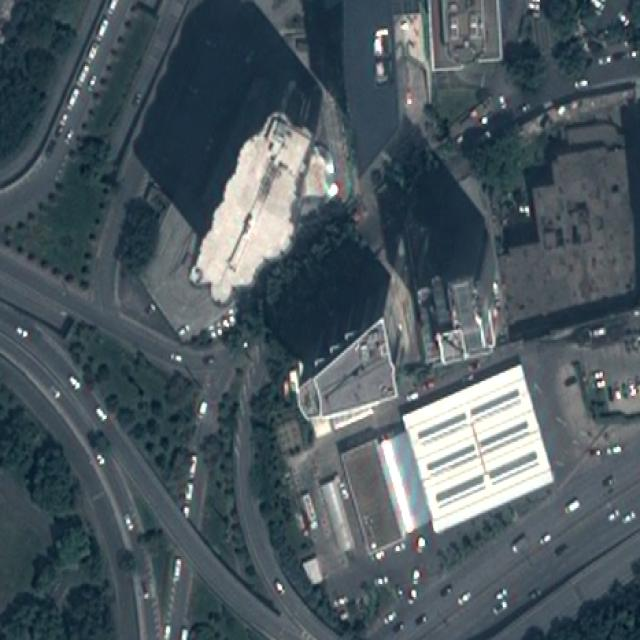Batiment: (404, 361, 554, 532), (298, 319, 398, 421), (341, 441, 401, 551), (431, 0, 502, 70), (321, 475, 355, 551)
